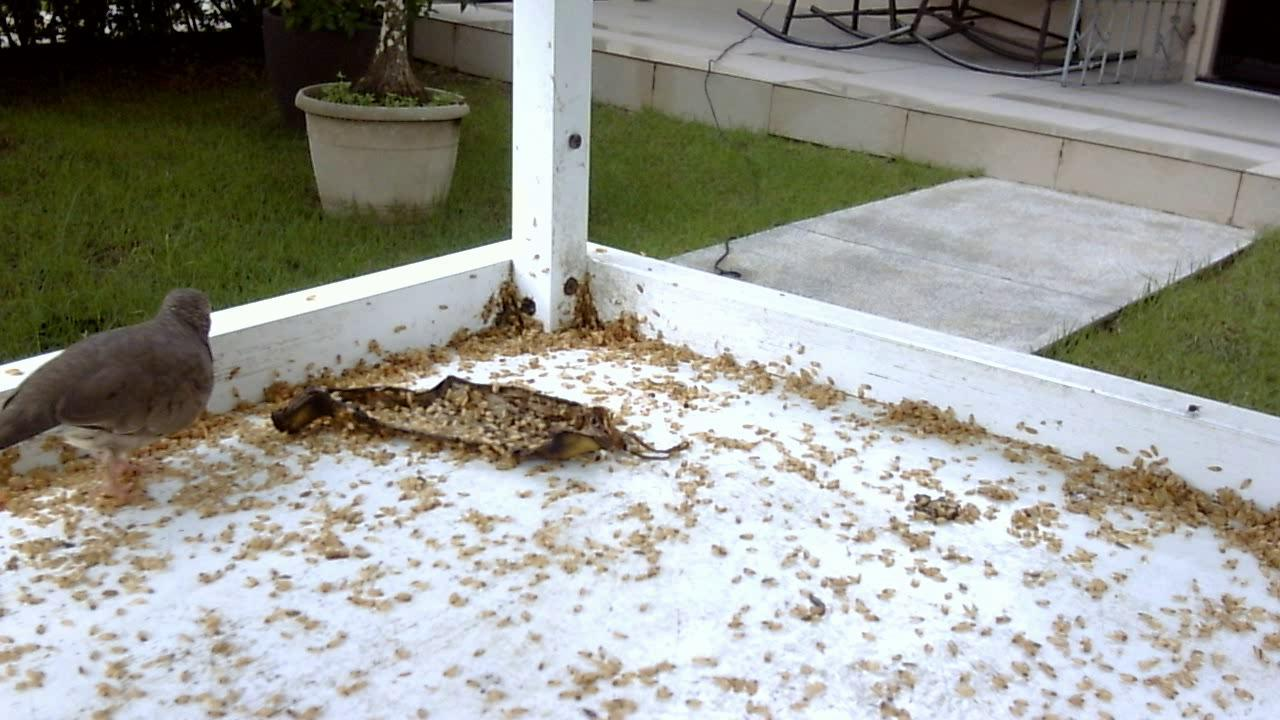rolinha: (4, 286, 226, 489)
